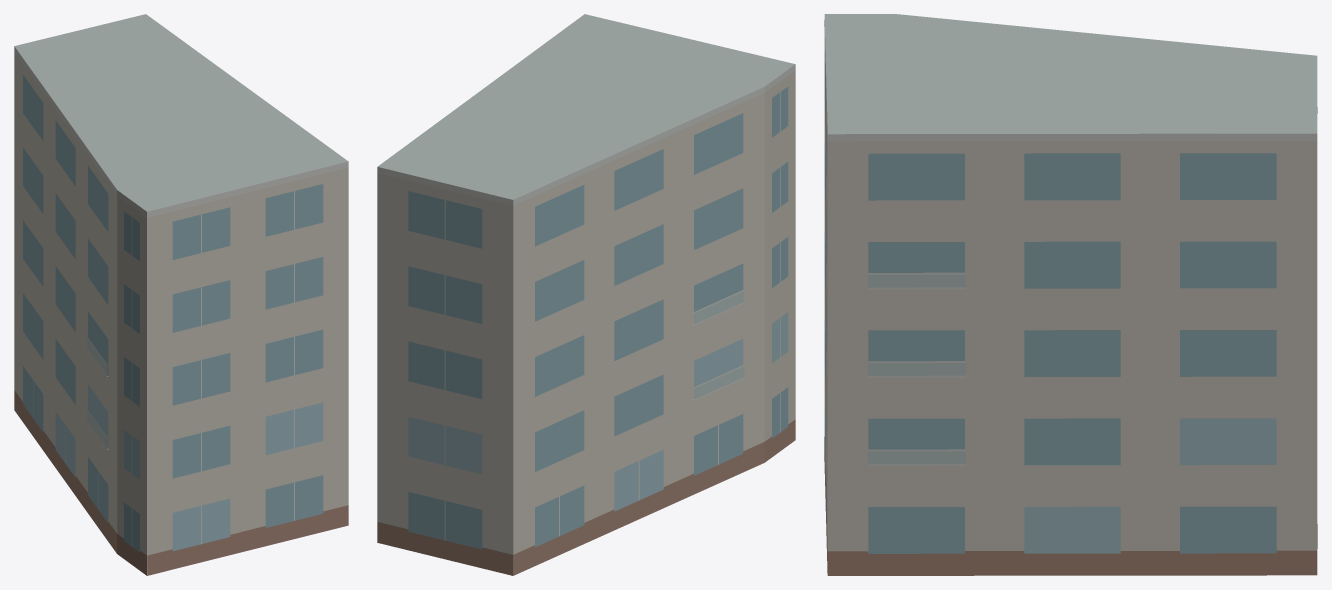
The model's file is survey-upis-32571357.glb.
The picture shows the model from 3 angles, left to right: view 1: azimuth 30°, elevation 25°; view 2: azimuth 150°, elevation 25°; view 3: azimuth 270°, elevation 25°; orthographic projection. The views are drawn at different scales.
Parts seen in each view (by area): view 1: survey-upis-32571357.tmp; view 2: survey-upis-32571357.tmp; view 3: survey-upis-32571357.tmp.
Part boxes in pixels (<box>): survey-upis-32571357.tmp: <box>14,14,348,575</box>; survey-upis-32571357.tmp: <box>377,14,795,575</box>; survey-upis-32571357.tmp: <box>824,14,1317,575</box>.
Bounding box in the file's own units: 8.97 × 15.3 × 15.49.
